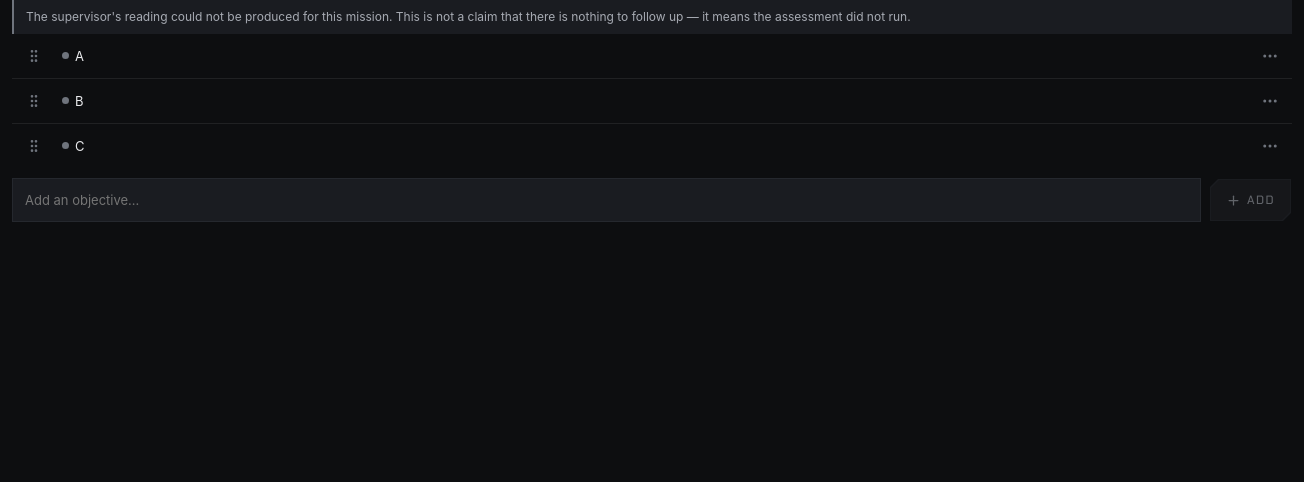
Test: a REFUSED reorder puts the server's order back, and says it did not apply
This screenshot has width=1304, height=482.
Click the 3rd button with test id "objective-menu". click: (1270,146)
box: [1248,124,1292,168]
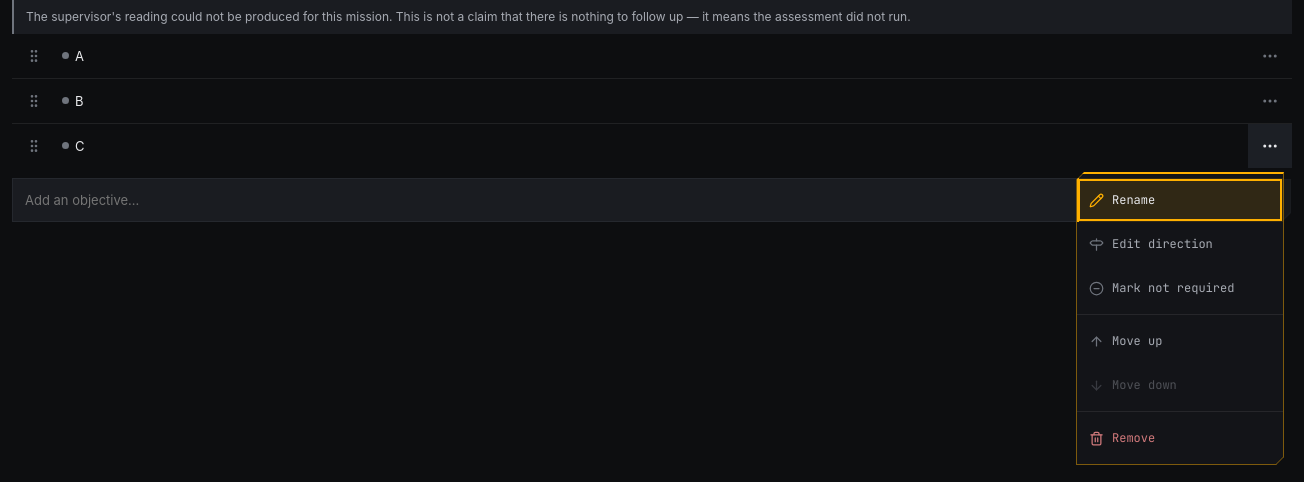
Click the menu item with test id "objective-up". click: (1180,341)
box: [1077,319,1283,363]
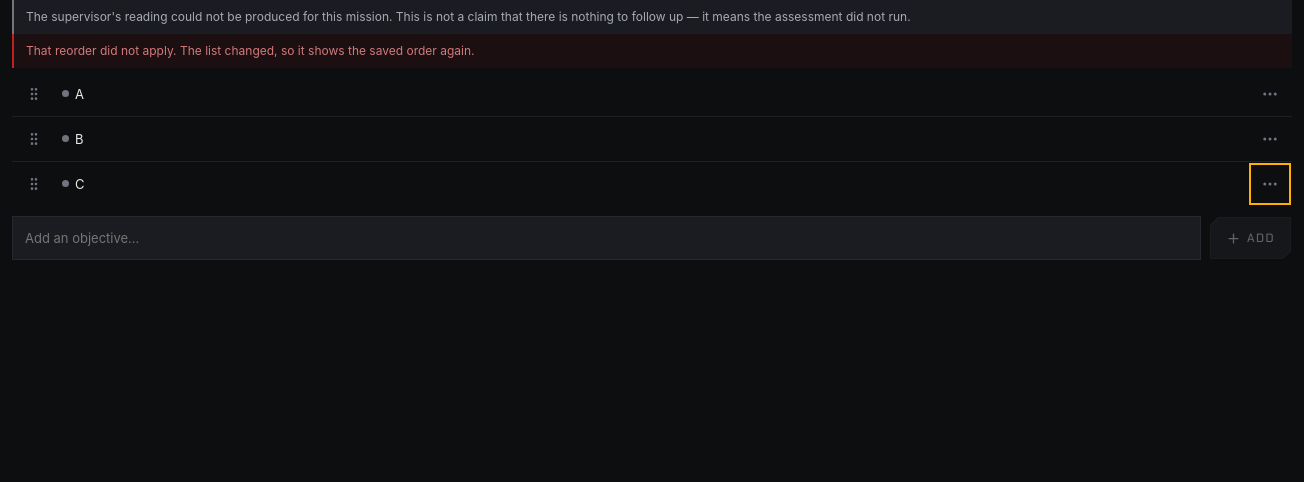
Check: the message with test id "objectives-reorder-refused" shows "did not apply", box [26,43,474,58]
